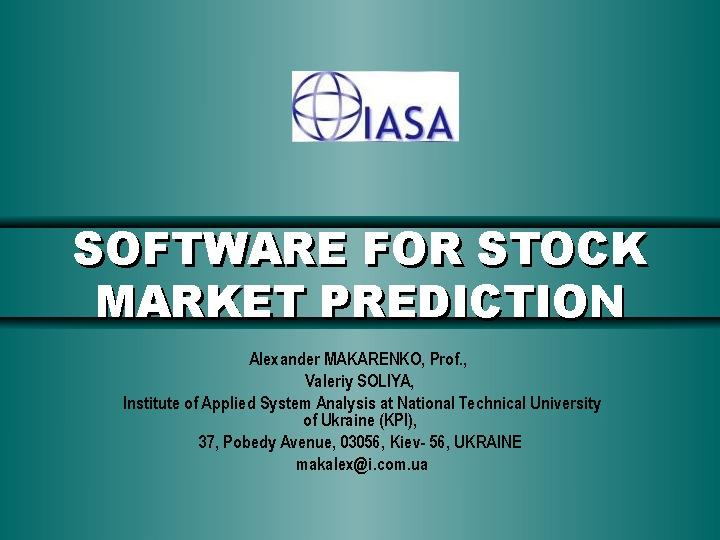subtitle: (106, 340, 640, 492)
title: (67, 218, 655, 333)
